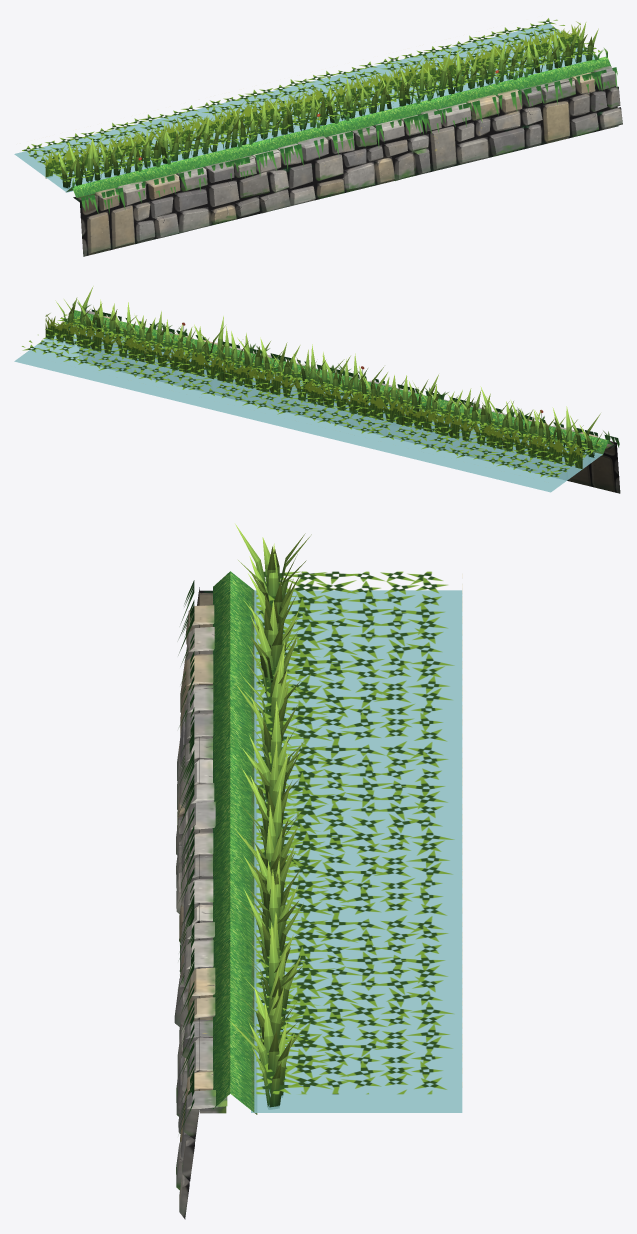
File: terrace_straight_young_mid_plain.glb
3 views of the same model, one above another, from view 1: azimuth 30°, elevation 25°; view 2: azimuth 150°, elevation 25°; view 3: azimuth 270°, elevation 25° (orthographic). The views are drawn at different scales.
Parts seen in each view (by area): view 1: terrace_straight_young_mid_plain_wall, terrace_straight_young_mid_plain_cards, terrace_straight_young_mid_plain_lip, terrace_straight_young_mid_plain_water, terrace_straight_young_mid_plain_dike; view 2: terrace_straight_young_mid_plain_cards, terrace_straight_young_mid_plain_water, terrace_straight_young_mid_plain_lip, terrace_straight_young_mid_plain_dike, terrace_straight_young_mid_plain_wall; view 3: terrace_straight_young_mid_plain_water, terrace_straight_young_mid_plain_cards, terrace_straight_young_mid_plain_dike, terrace_straight_young_mid_plain_wall, terrace_straight_young_mid_plain_lip.
Part boxes in pixels (<box>): terrace_straight_young_mid_plain_wall: <box>73,66,622,256</box>; terrace_straight_young_mid_plain_cards: <box>22,18,617,213</box>; terrace_straight_young_mid_plain_lip: <box>58,22,598,188</box>; terrace_straight_young_mid_plain_water: <box>14,23,594,192</box>; terrace_straight_young_mid_plain_dike: <box>66,56,611,197</box>; terrace_straight_young_mid_plain_cards: <box>22,301,619,477</box>; terrace_straight_young_mid_plain_water: <box>14,326,602,492</box>; terrace_straight_young_mid_plain_lip: <box>55,286,601,457</box>; terrace_straight_young_mid_plain_dike: <box>67,310,612,455</box>; terrace_straight_young_mid_plain_wall: <box>79,310,620,493</box>; terrace_straight_young_mid_plain_water: <box>251,590,462,1112</box>; terrace_straight_young_mid_plain_cards: <box>178,571,454,1133</box>; terrace_straight_young_mid_plain_dike: <box>213,571,257,1114</box>; terrace_straight_young_mid_plain_wall: <box>174,587,227,1219</box>; terrace_straight_young_mid_plain_lip: <box>226,524,311,1107</box>.
Size of the model in its own units: 12.16 by 1.97 by 2.79.
5 materials, 4 textured.
